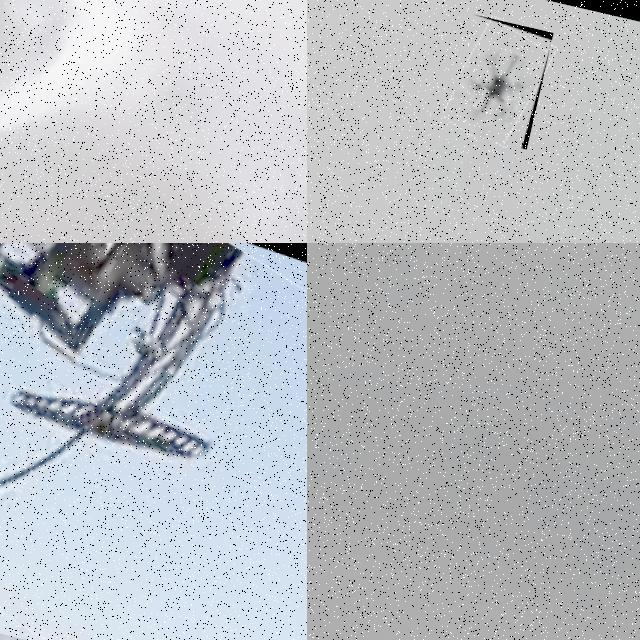drone: (0, 243, 307, 640), (0, 0, 307, 243), (444, 14, 554, 149)
